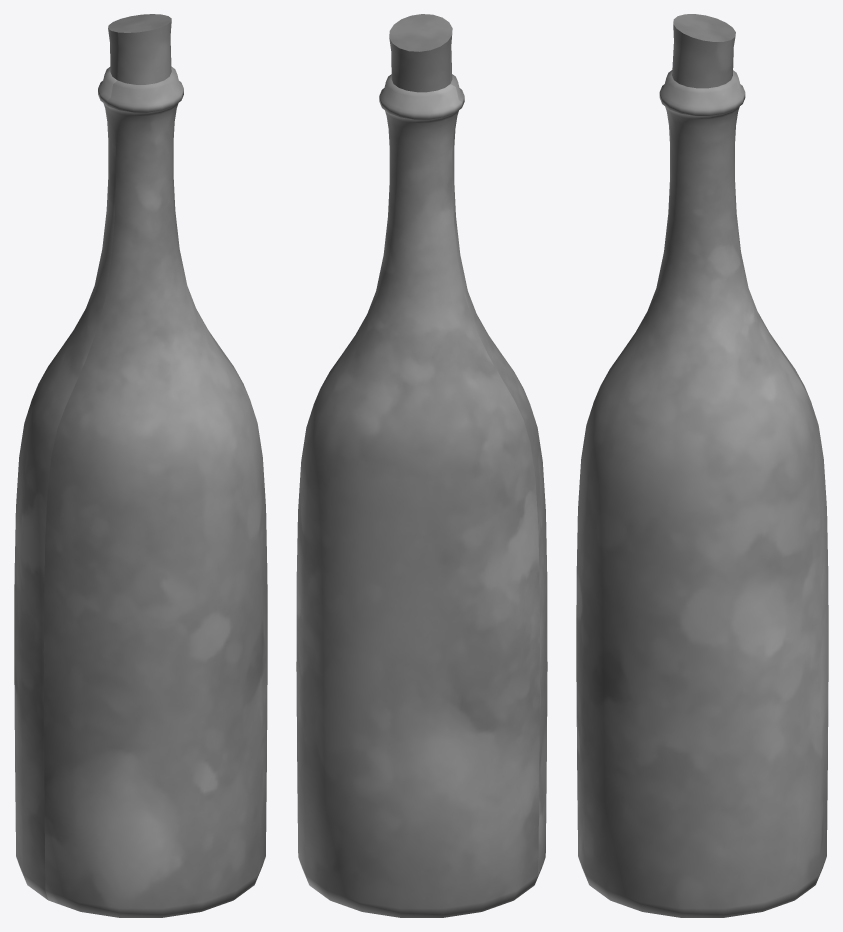
Rendered from SM_Bottle_01a.fbx.
3 views of the same model, side by side, from view 1: azimuth 30°, elevation 25°; view 2: azimuth 150°, elevation 25°; view 3: azimuth 270°, elevation 25° (orthographic).
Visible parts, largest first — view 1: SM_Bottle_01a_LOD0; view 2: SM_Bottle_01a_LOD0; view 3: SM_Bottle_01a_LOD0.
Boxes of the visible parts, left/top/right/bottom form: SM_Bottle_01a_LOD0: left=14, top=14, right=267, bottom=917; SM_Bottle_01a_LOD0: left=296, top=14, right=547, bottom=917; SM_Bottle_01a_LOD0: left=576, top=14, right=828, bottom=917.
Size of the model in its own units: 14.74 by 14.96 by 55.61.
